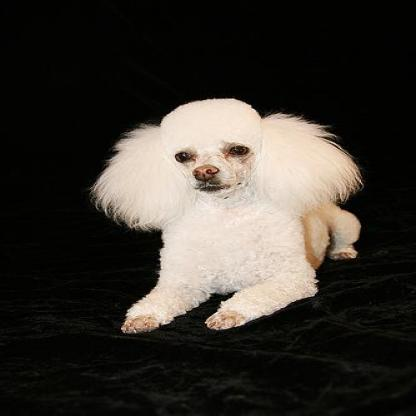miniature_poodle: (87, 95, 362, 336)
